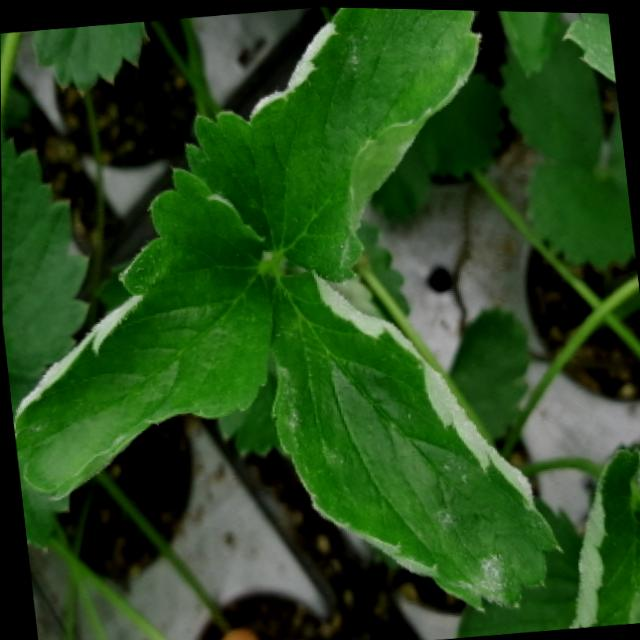Powdery Mildew Leaf: (266, 254, 557, 614), (11, 164, 275, 495), (179, 6, 478, 281), (566, 441, 640, 626), (562, 10, 616, 81)
